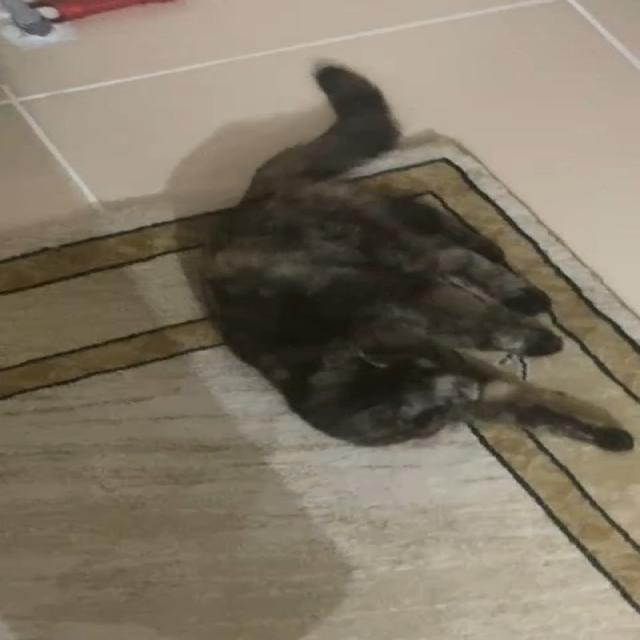authorized: (197, 60, 635, 452)
